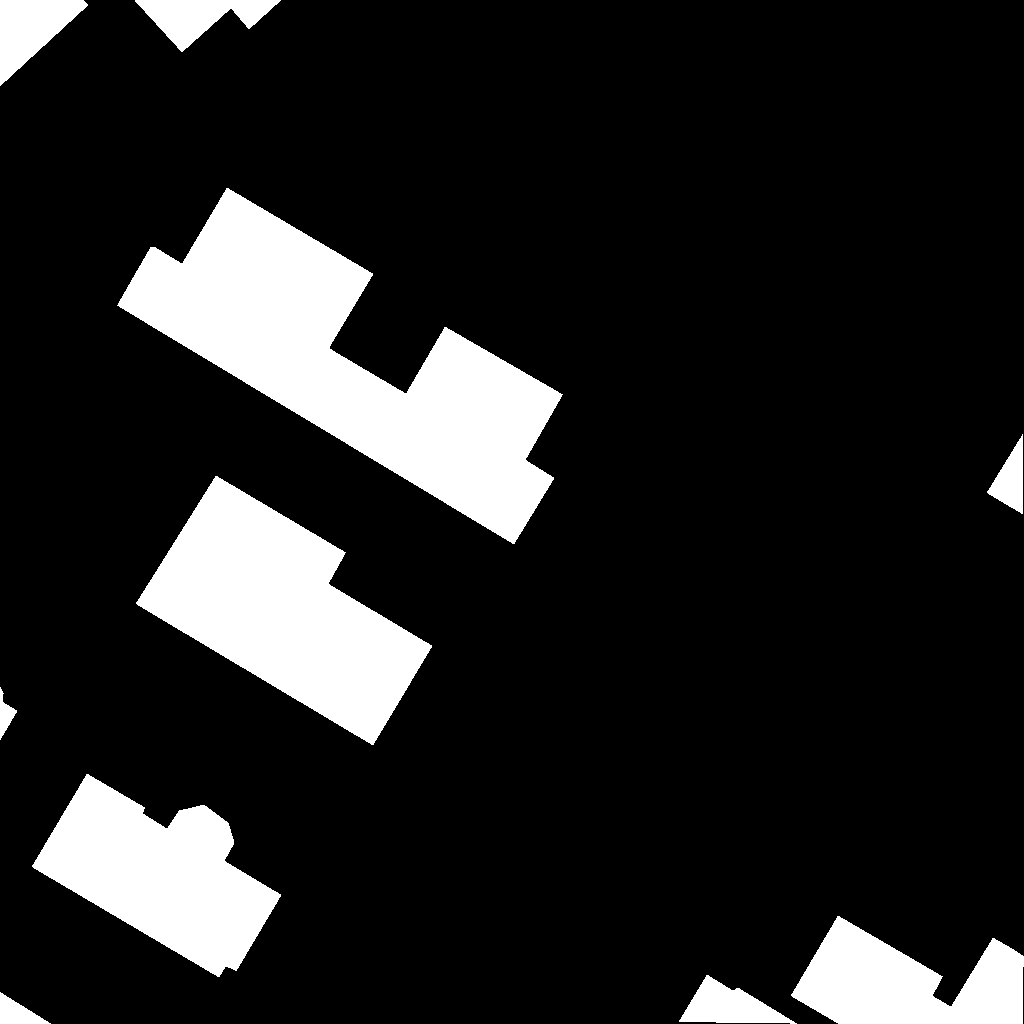building: (117, 188, 564, 545), (136, 476, 433, 746), (32, 774, 282, 978), (791, 916, 1024, 1024), (134, 0, 282, 53), (0, 0, 89, 87), (679, 975, 798, 1024), (987, 434, 1024, 515), (0, 992, 52, 1024), (0, 686, 18, 751)
